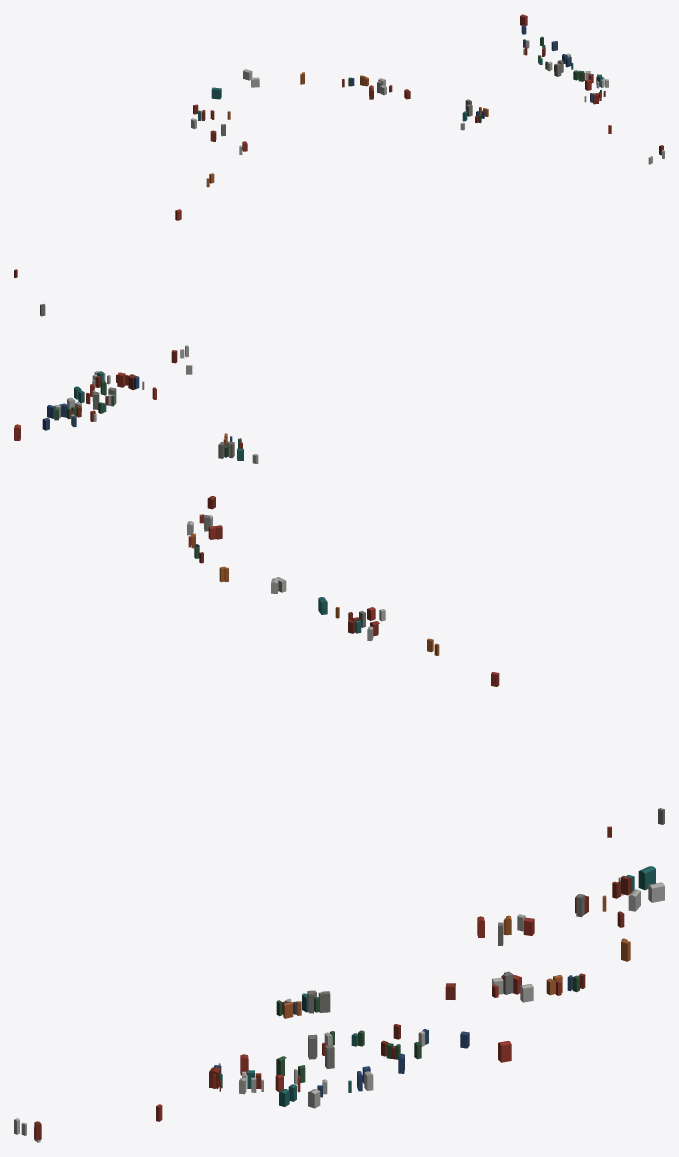
Rendered from near-15-27366-14868.f7edb4d0.glb.
3 views of the same model, one above another, from view 1: azimuth 30°, elevation 25°; view 2: azimuth 150°, elevation 25°; view 3: azimuth 270°, elevation 25° (orthographic). The views are drawn at different scales.
Size of the model in its own units: 1171 by 405 by 719.
